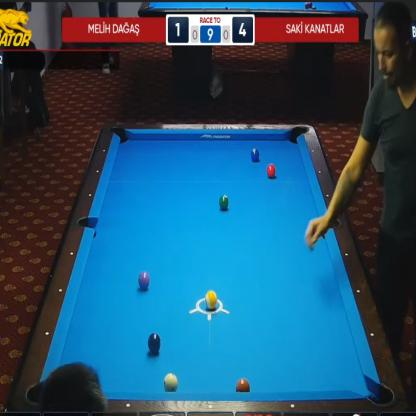Ball: (164, 372, 178, 393), (148, 332, 161, 354), (205, 290, 217, 309), (138, 271, 150, 289), (236, 378, 250, 392), (219, 195, 229, 210), (266, 164, 276, 178), (250, 148, 260, 161)
